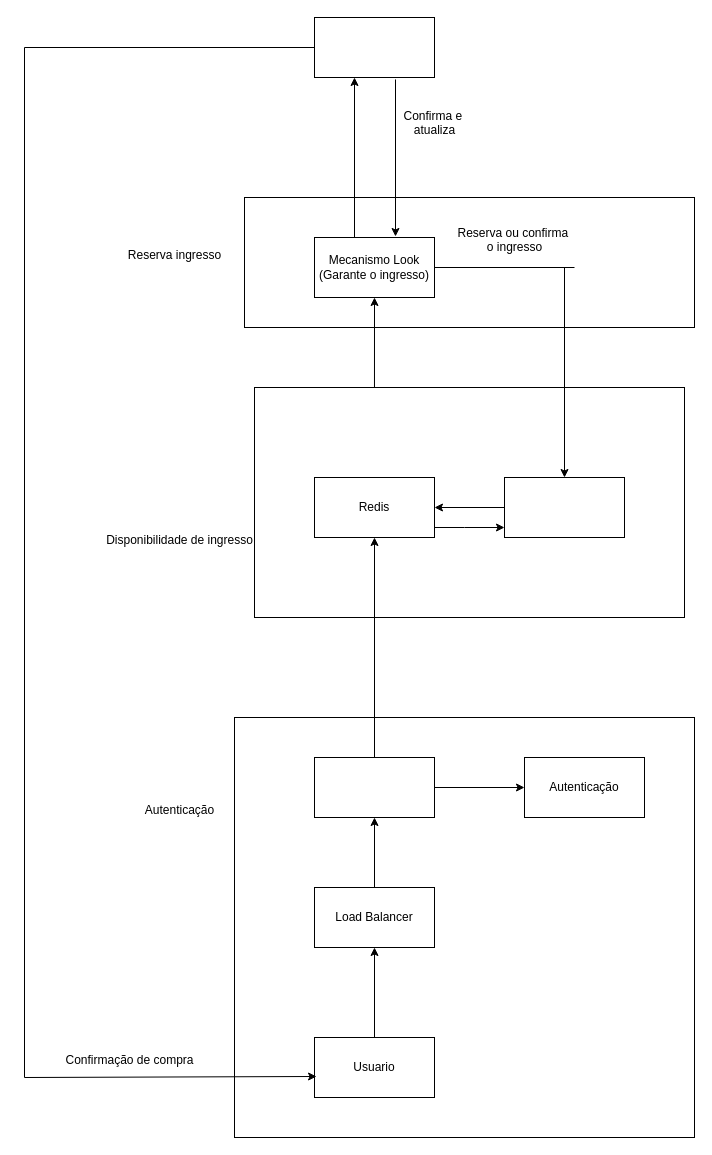
Some shapes in this 712 by 1155 pixel diagram are drawn without their labels. The shapes that lost their labels are listed below. From the top down, each one's centre as x and y in pixels, then its label:
At point (374, 47): "Pagamento".
At point (564, 507): "Banco de dados".
At point (374, 787): "Site".
